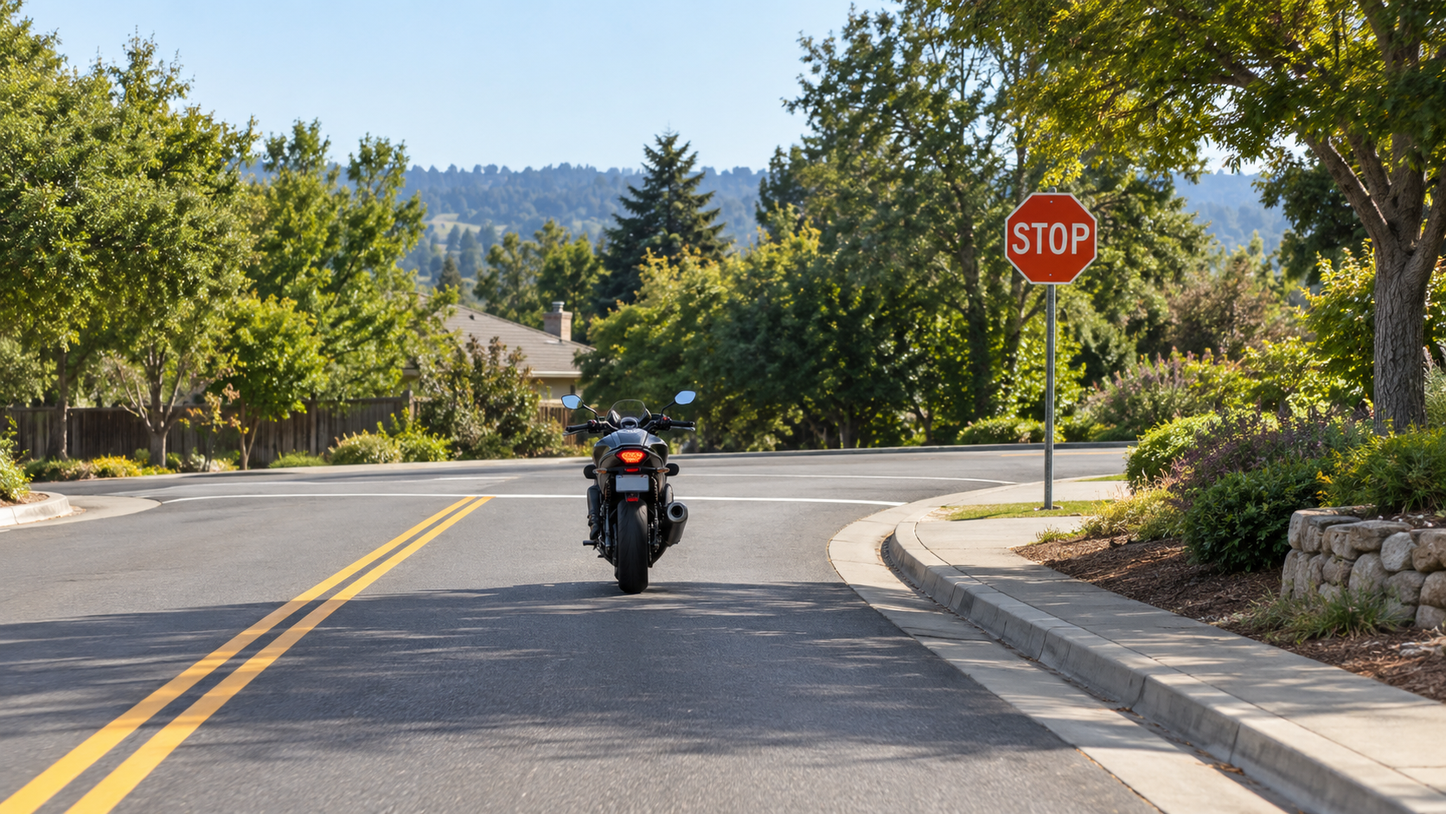motorcycle: (562, 392, 698, 595)
stop_sign: (1005, 193, 1093, 283)
